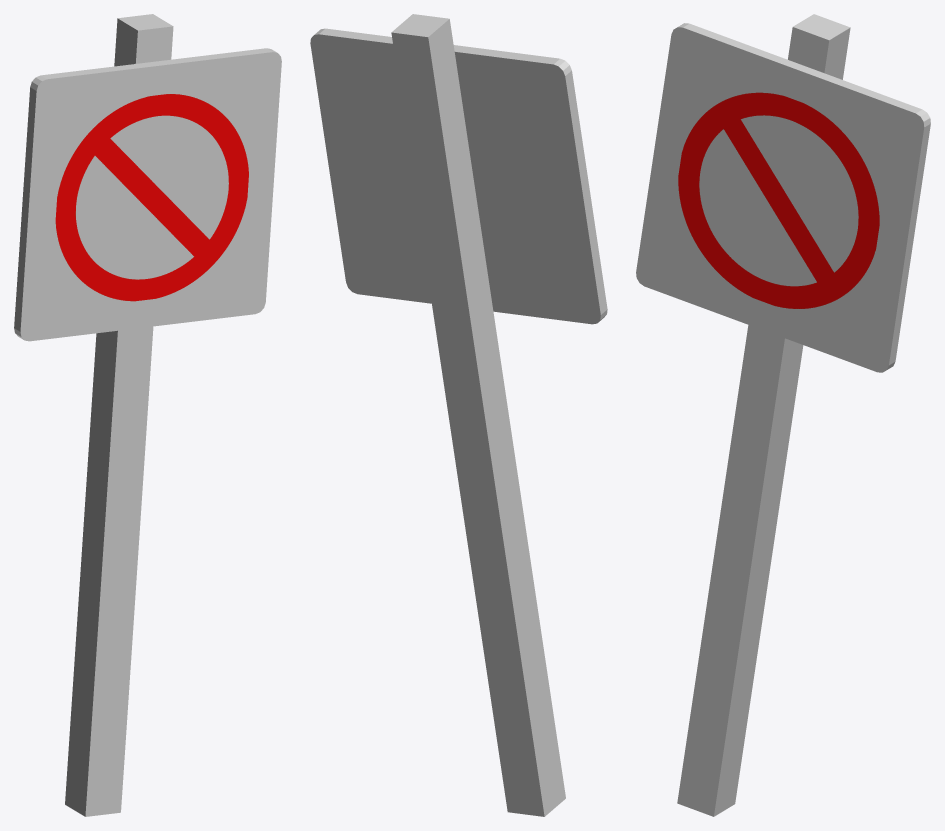
File: sign.glb
3 views of the same model, side by side, from view 1: azimuth 30°, elevation 25°; view 2: azimuth 150°, elevation 25°; view 3: azimuth 330°, elevation 25° (orthographic). The views are drawn at different scales.
Parts seen in each view (by area): view 1: Cube, Cube.001; view 2: Cube; view 3: Cube, Cube.001.
Part boxes in pixels (bbox=[...]): Cube: bbox=[14, 14, 281, 816]; Cube.001: bbox=[55, 94, 248, 301]; Cube: bbox=[310, 14, 607, 816]; Cube: bbox=[636, 14, 930, 816]; Cube.001: bbox=[678, 92, 879, 308].
Bounding box in the file's own units: 1.38 × 3.69 × 0.4432.
2 materials, 1 textured.
